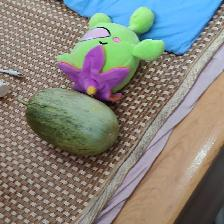gua: (21, 90, 126, 146)
